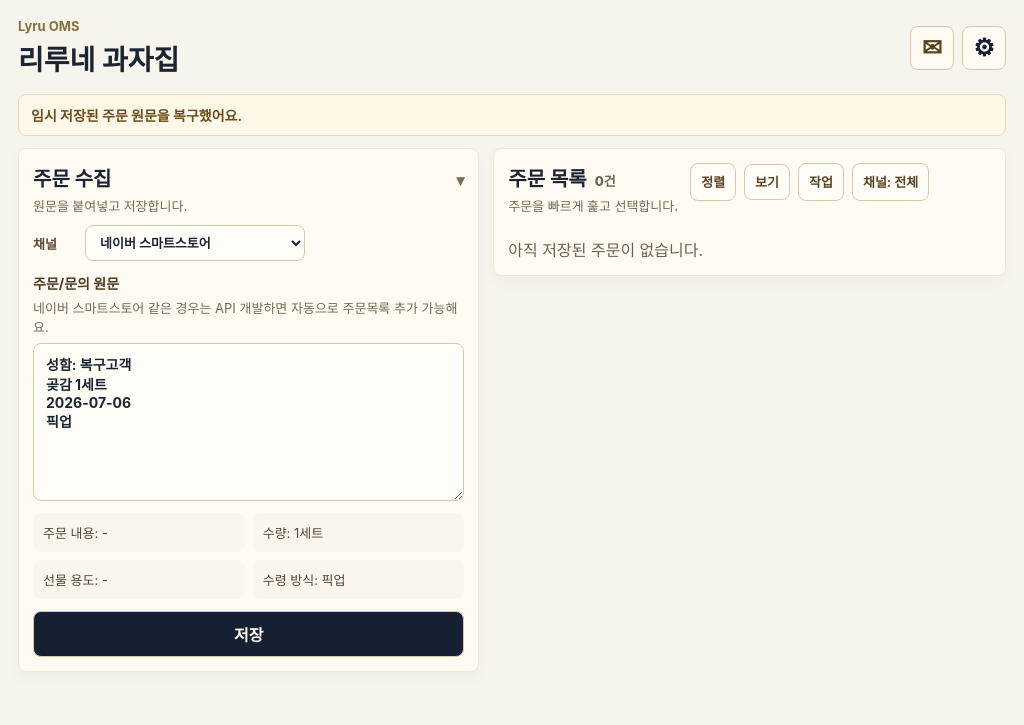
App › restores a saved draft into the capture form and clears it after a successful save
The image size is (1024, 725).
Expected: the heading "리루네 과자집" is shown, [18,38,179,78]
Expected: the text "임시 저장된 주문 원문을 복구했어요." is shown, [18,94,1006,136]
Click the button "저장". click: (249, 634)
box: [33,611,464,657]
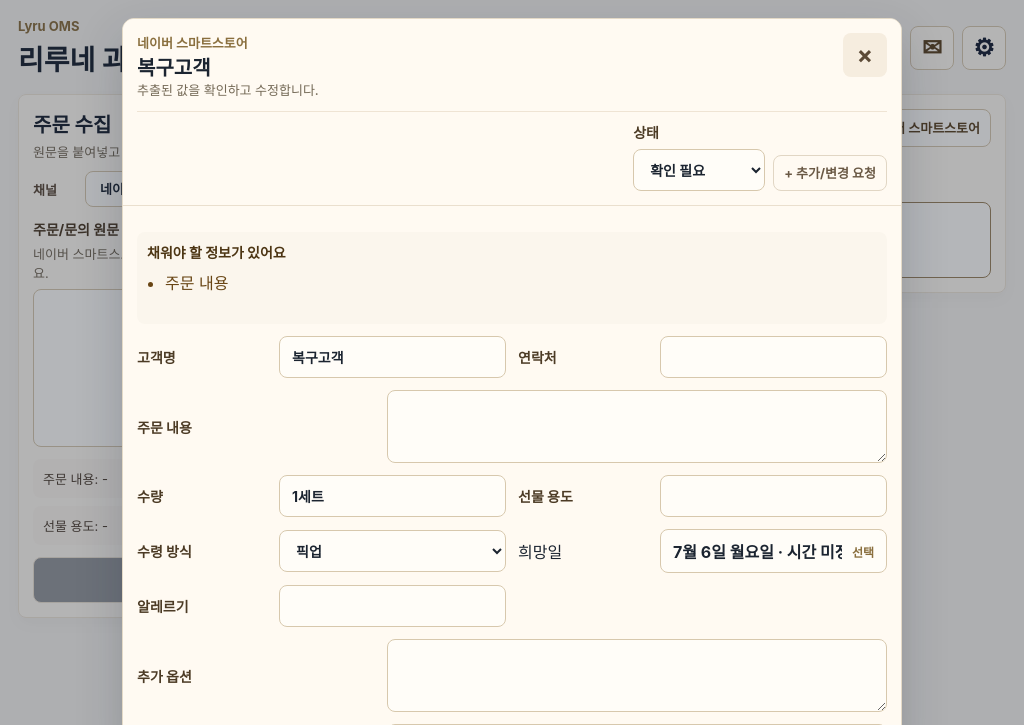
Expected: the button "복구고객" is shown, [137,56,211,80]
Expected: the text "임시 저장된 주문 원문을 복구했어요." is gone
